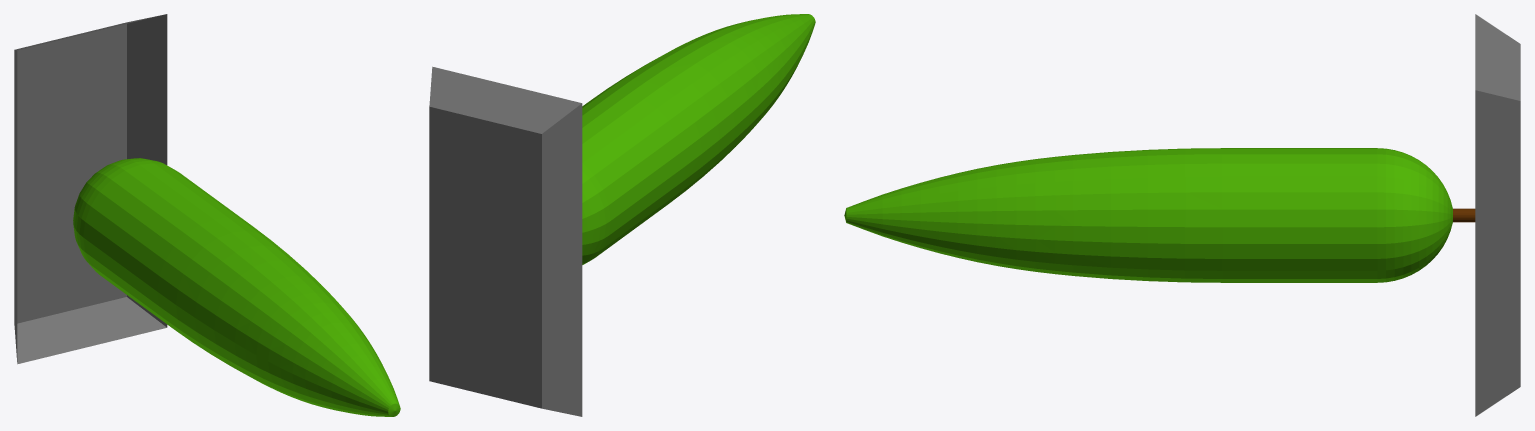
The model's file is LPK14m_kk.obj.
3 views of the same model, side by side, from view 1: azimuth 30°, elevation 25°; view 2: azimuth 150°, elevation 25°; view 3: azimuth 270°, elevation 25° (orthographic). The views are drawn at different scales.
Size of the model in its own units: 4 by 8 by 15.
